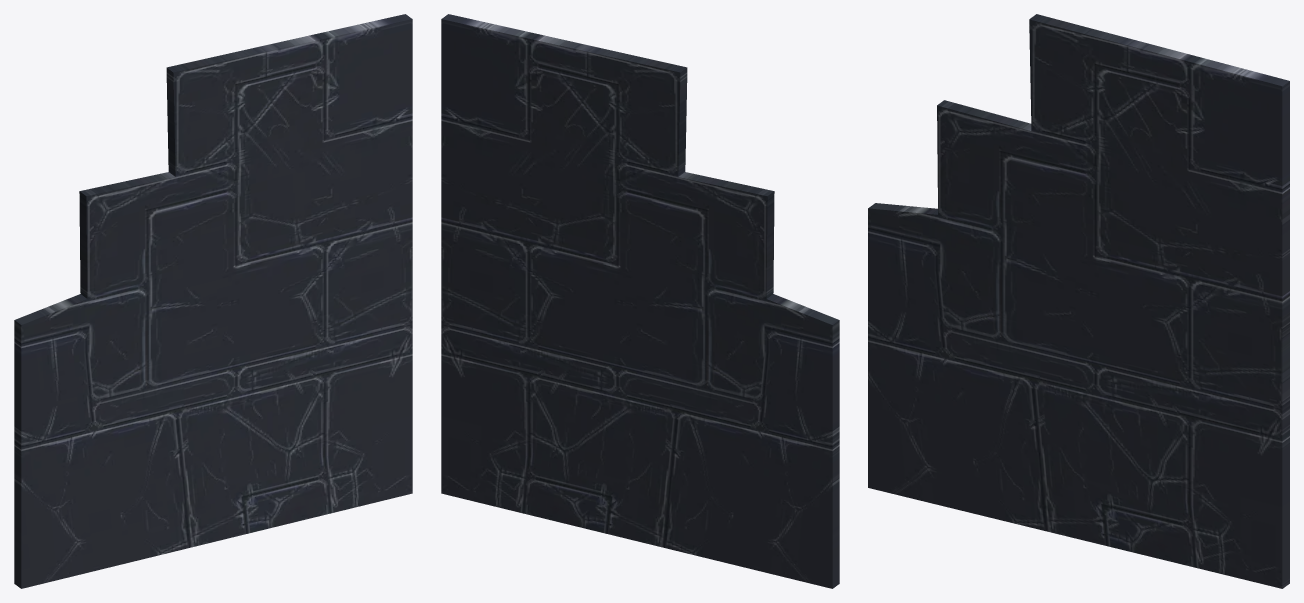
Rendered from pm-lunar-year-tile.glb.
3 views of the same model, side by side, from view 1: azimuth 30°, elevation 25°; view 2: azimuth 150°, elevation 25°; view 3: azimuth 330°, elevation 25° (orthographic). The views are drawn at different scales.
Parts seen in each view (by area): view 1: LunarYearTile; view 2: LunarYearTile; view 3: LunarYearTile.
Part boxes in pixels (bbox=[...]): LunarYearTile: bbox=[14, 14, 412, 588]; LunarYearTile: bbox=[441, 14, 839, 588]; LunarYearTile: bbox=[868, 14, 1289, 588].
Size of the model in its own units: 2.24 by 2.63 by 0.0693.
Materials: 1 (1 with a texture image).
